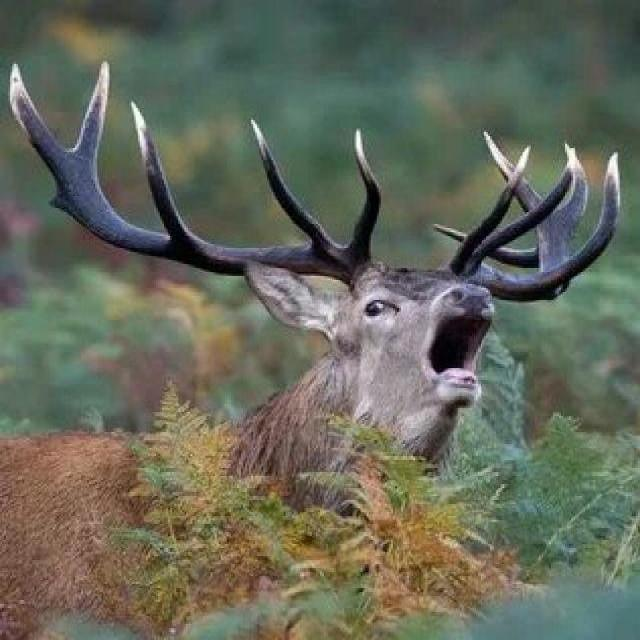deer: (123, 120, 602, 527)
